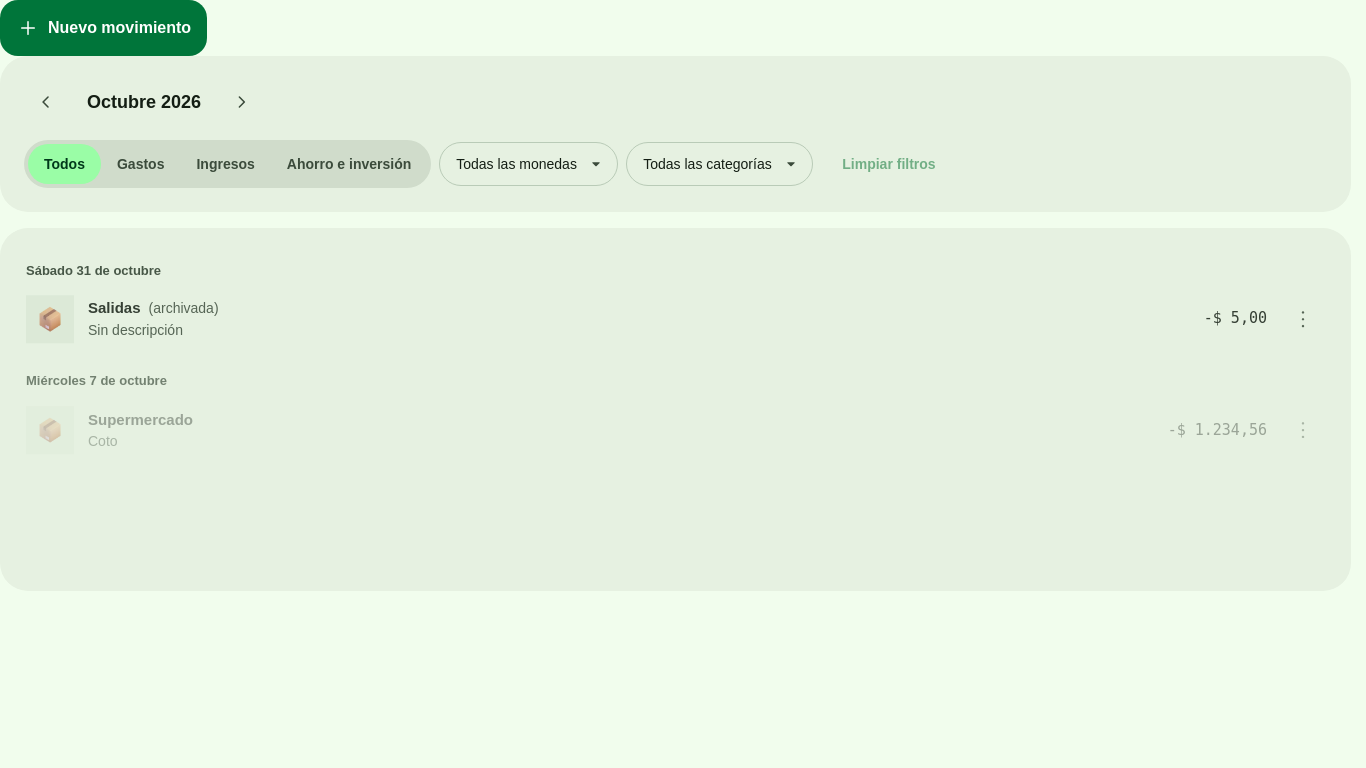
MovementsPage › shows a movement right after saving it from the dialog
Expected: the element named "Movimientos de octubre 2026" is shown, left=12, top=252, right=1339, bottom=566
Click the button "Nuevo movimiento": [104, 28] box left=0, top=0, right=207, bottom=56
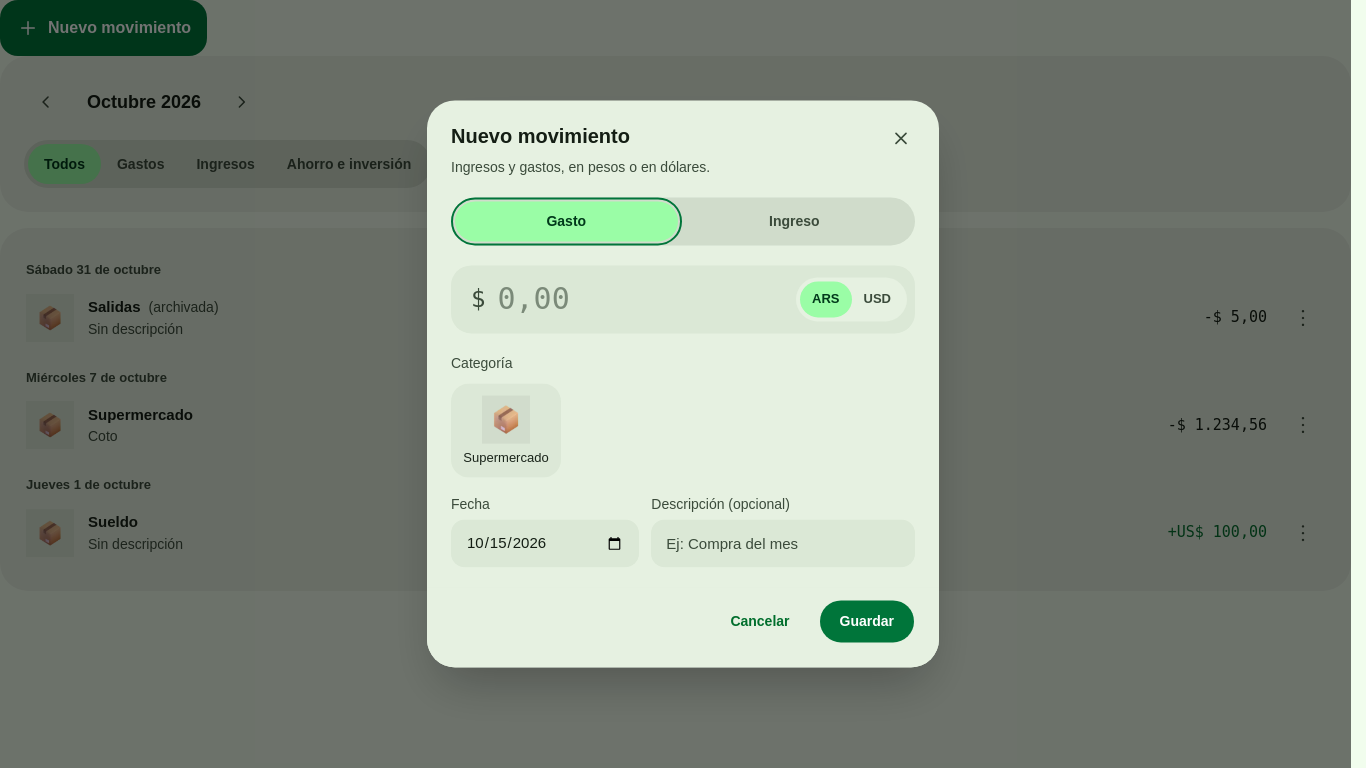
Click the radio button labelled "Ingreso": [794, 221] box left=678, top=201, right=911, bottom=241
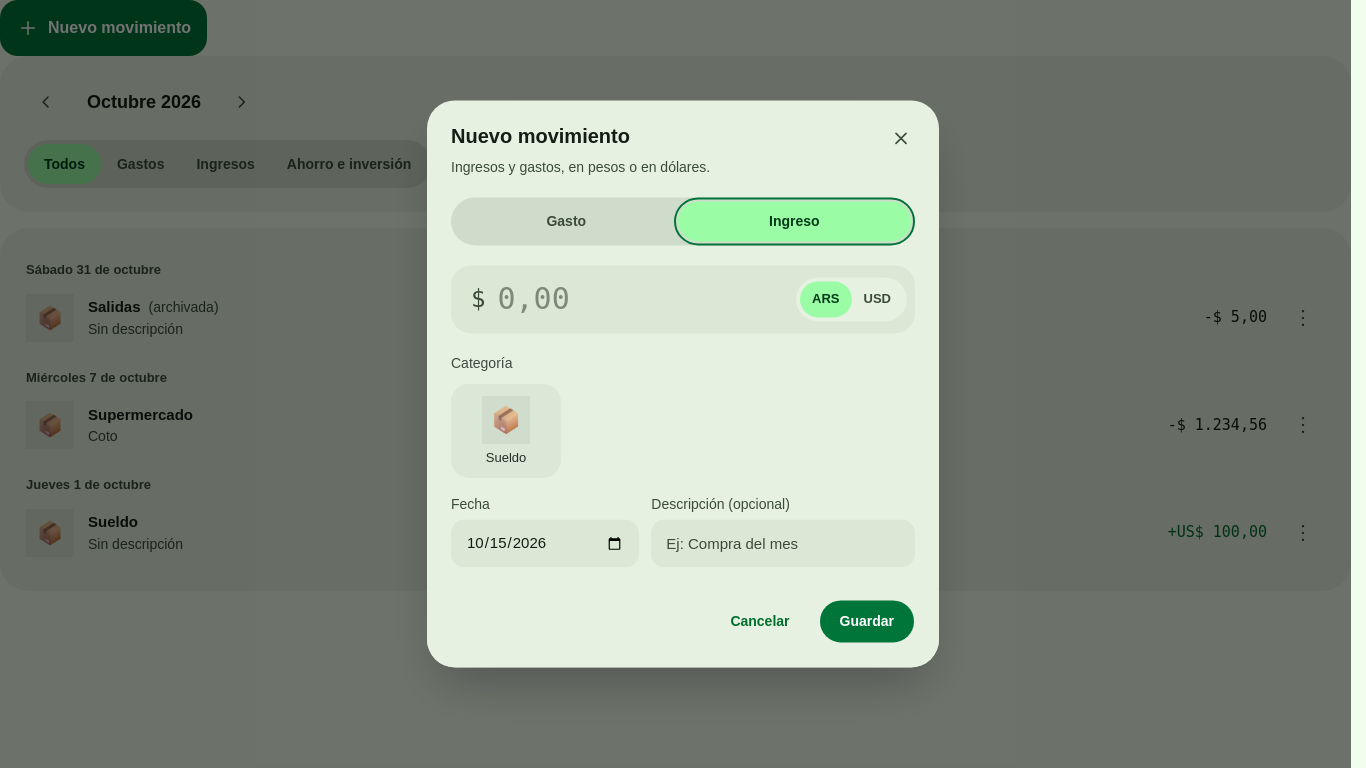
In the field named "Monto": [641, 299] box left=498, top=273, right=784, bottom=325, type "50"
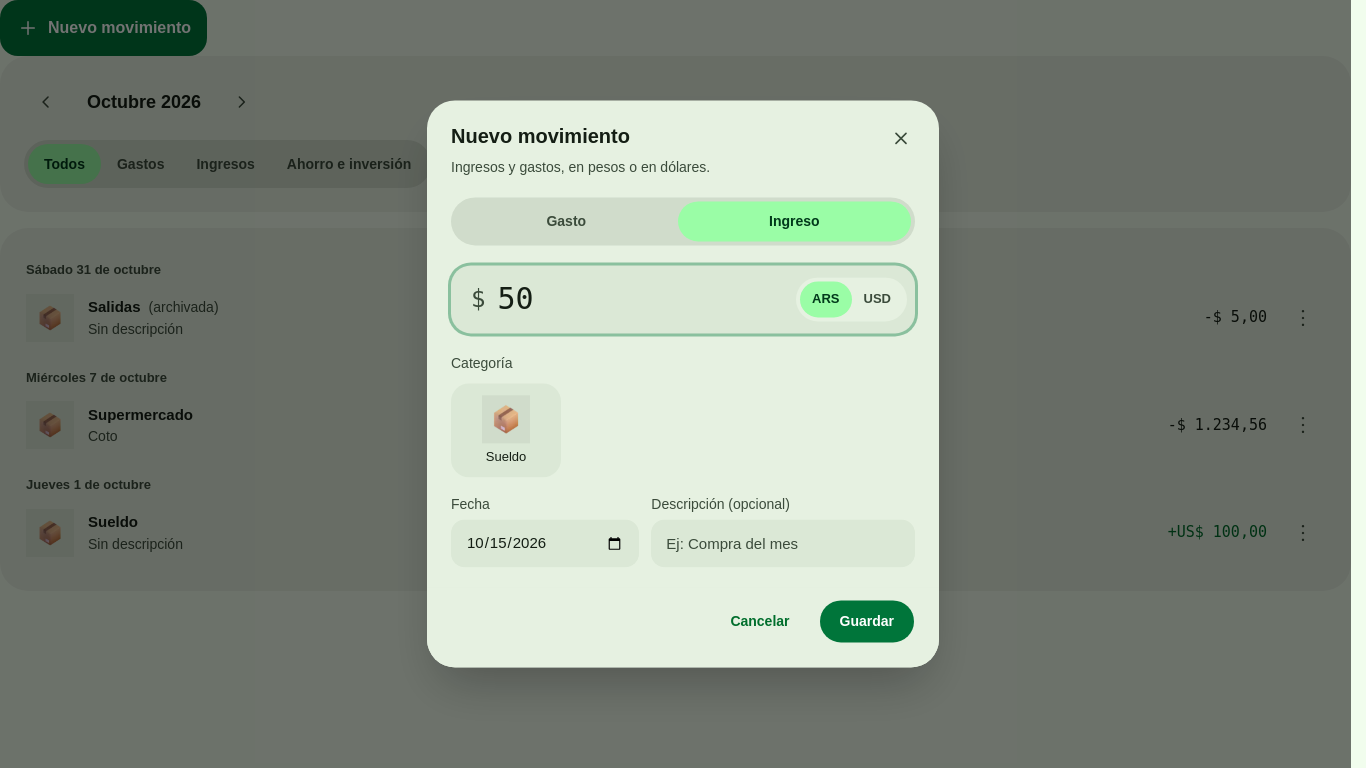
Click the radio button labelled "Sueldo": [506, 431] box left=451, top=383, right=561, bottom=478
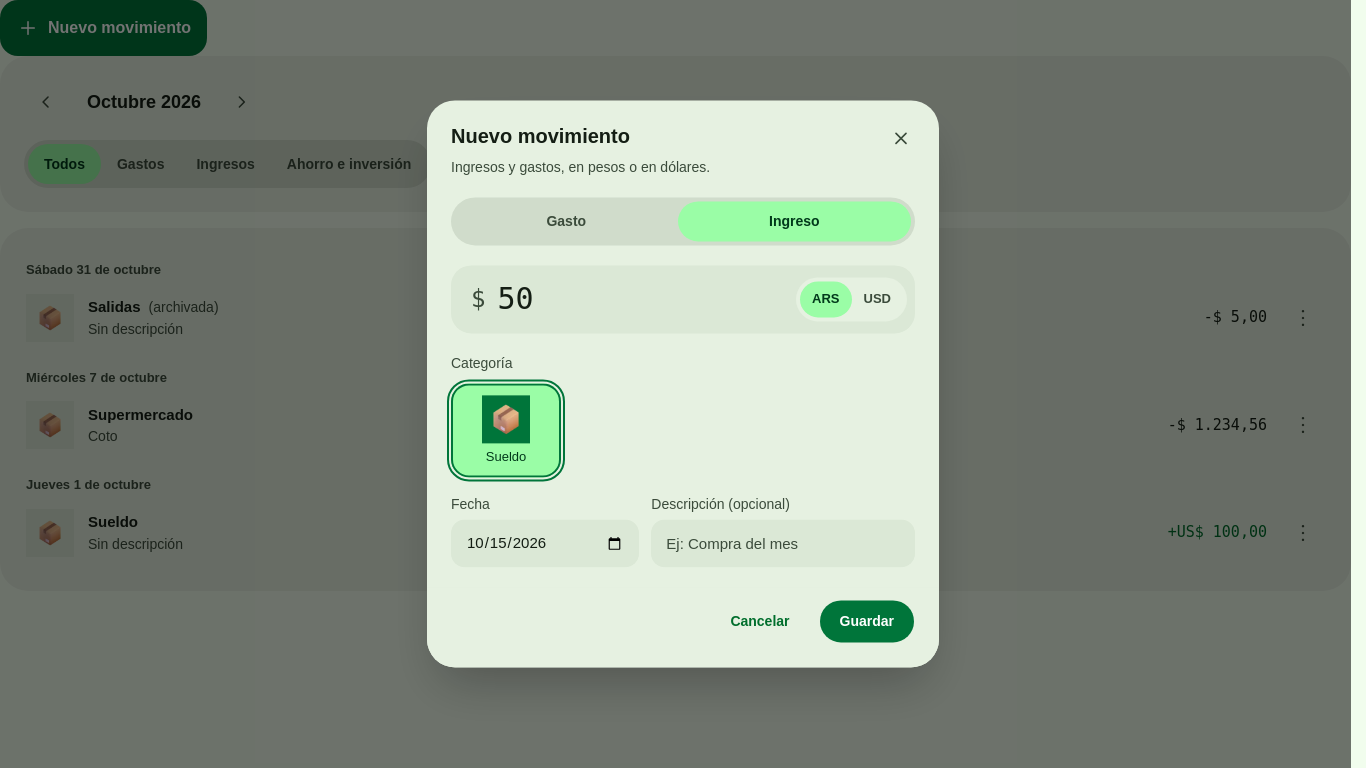
Click the button "Guardar": [867, 622] box left=818, top=600, right=915, bottom=644
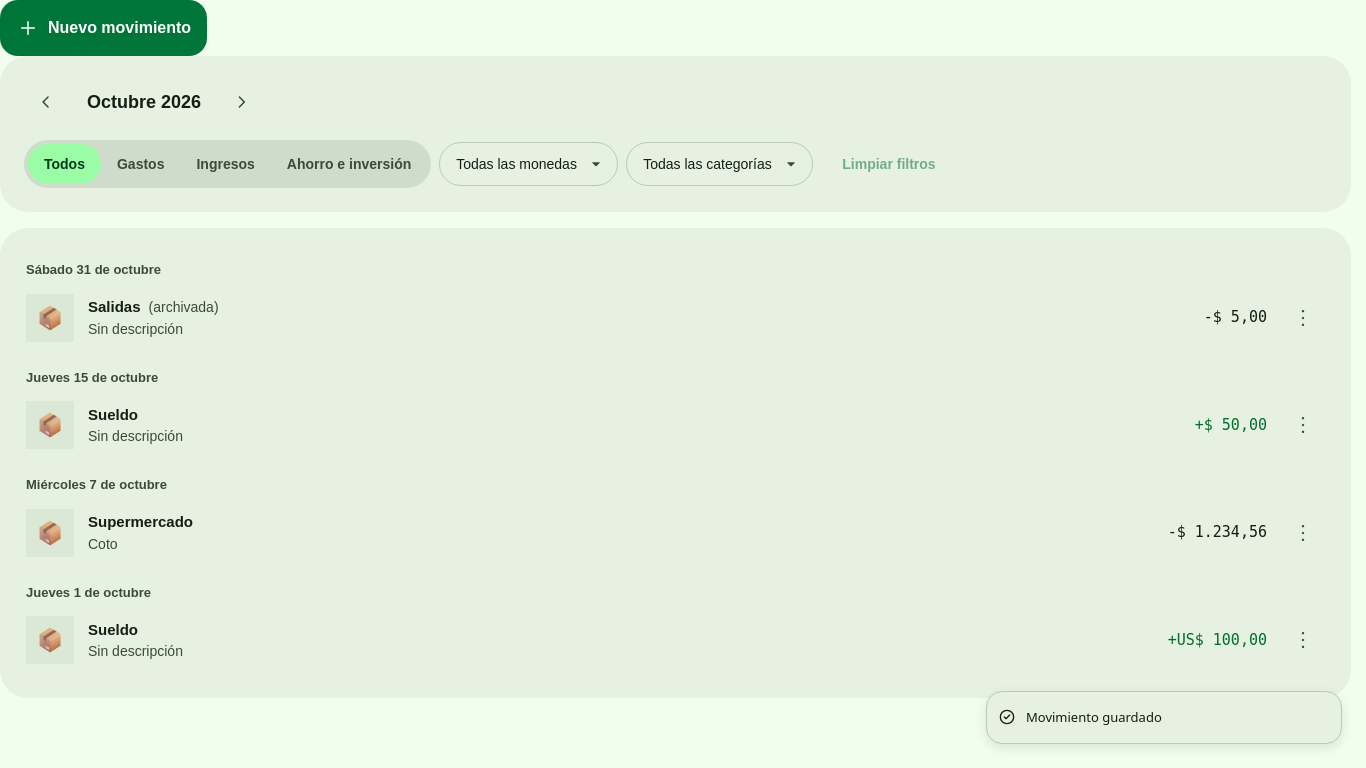
Expected: the text "+$ 50,00" is shown, left=1195, top=414, right=1267, bottom=436
